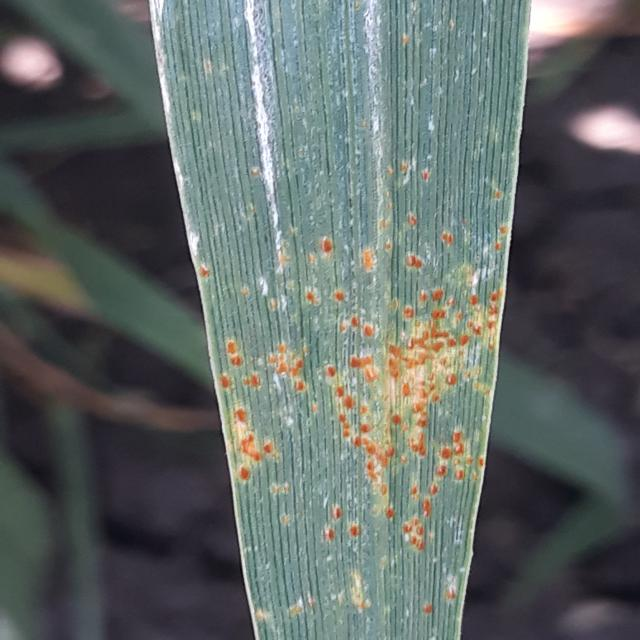orang_rust: (133, 0, 546, 640)
